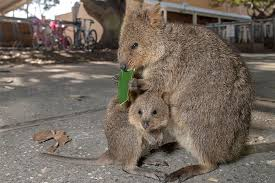quokka: (97, 5, 257, 179)
